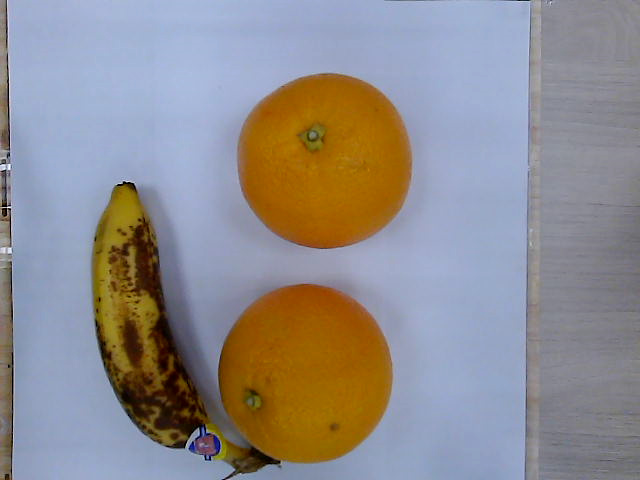fresh_orange: (218, 284, 392, 464), (238, 73, 412, 248)
rotten_banana: (92, 181, 273, 477)
